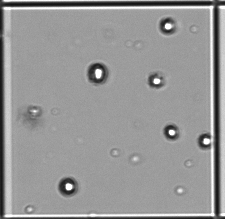Living Cell: (87, 62, 107, 84), (58, 177, 77, 196), (159, 17, 177, 35), (163, 123, 178, 140), (149, 73, 164, 88), (198, 134, 212, 148)
